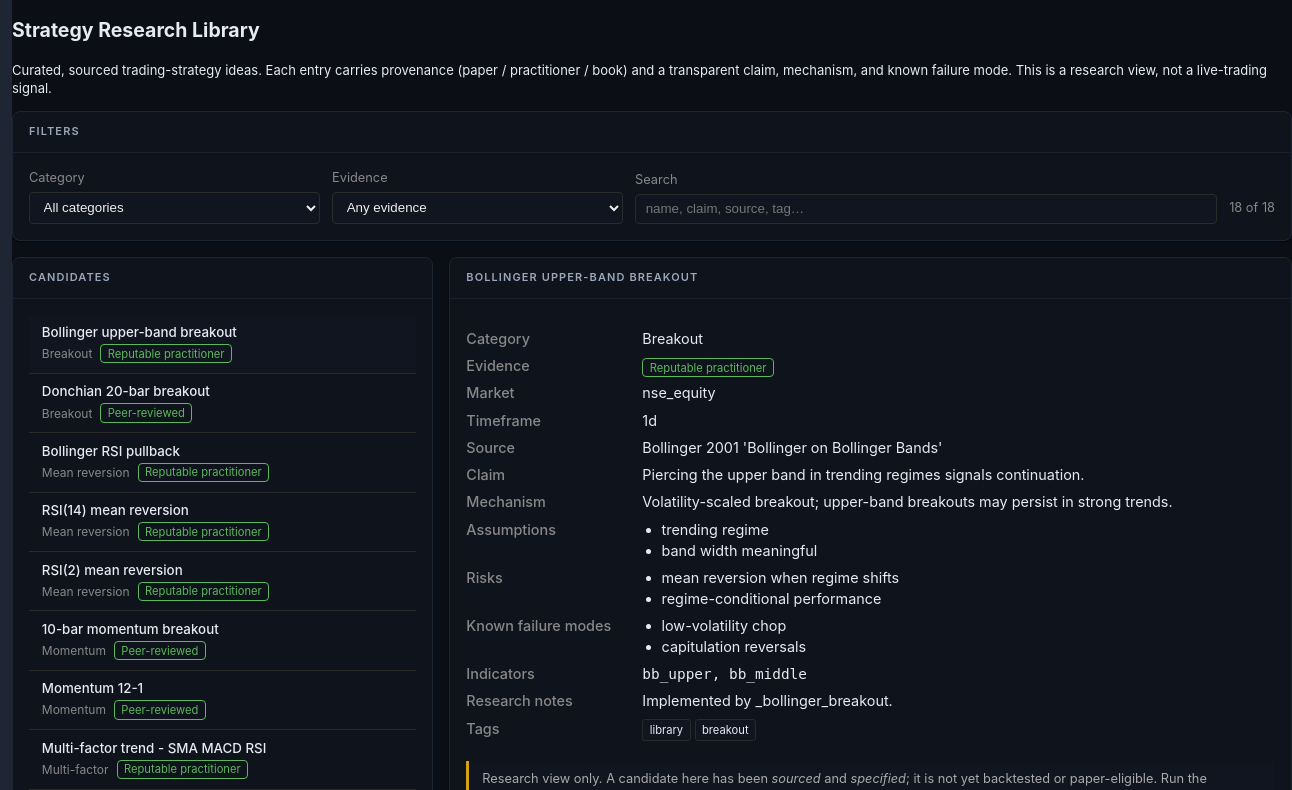
Test: PaperResearch › filters by search term
Type "Bollinger" into the search field with placeholder "name, claim, source, tag…" at (926, 209), box [635,194,1217,224]
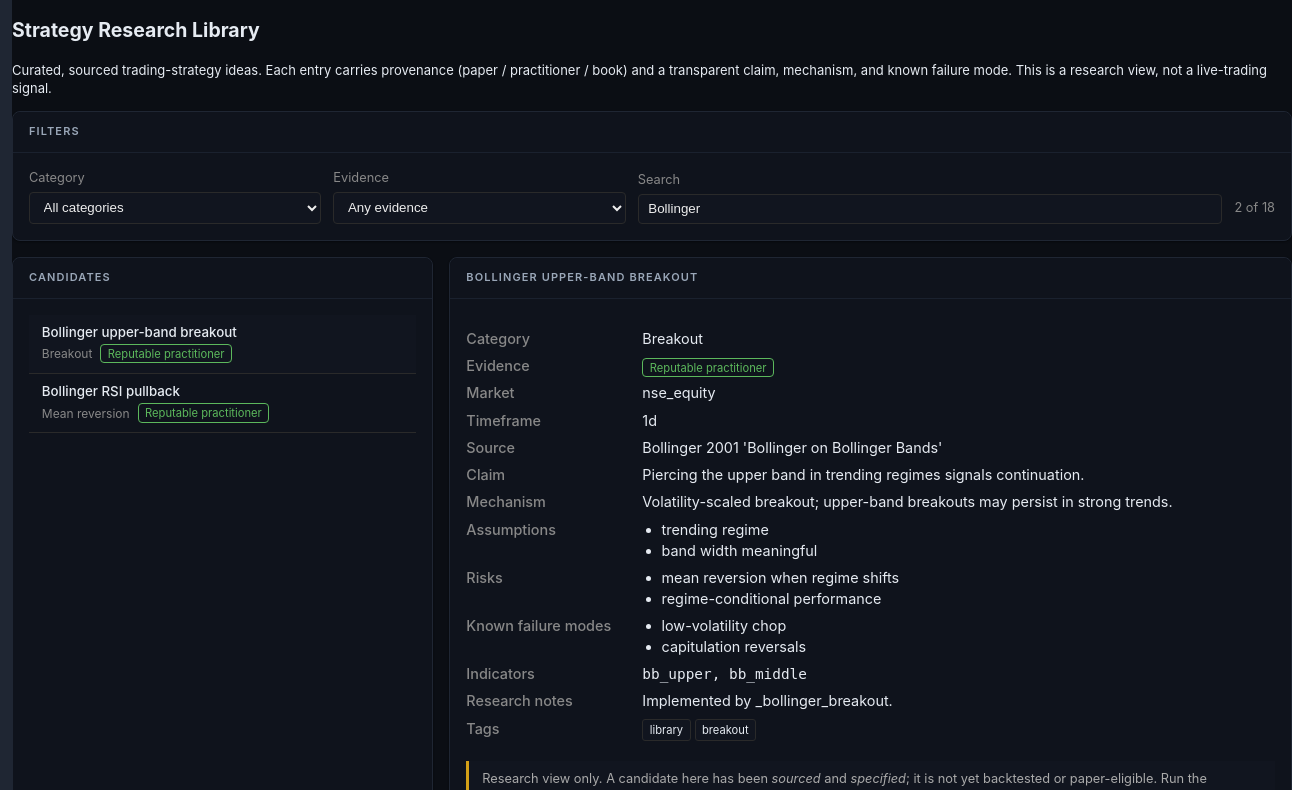
Expected: the button "Donchian 20-bar breakout" is gone
Expected: the button "RSI(14) mean reversion" is gone
Expected: the button "RSI(2) mean reversion" is gone
